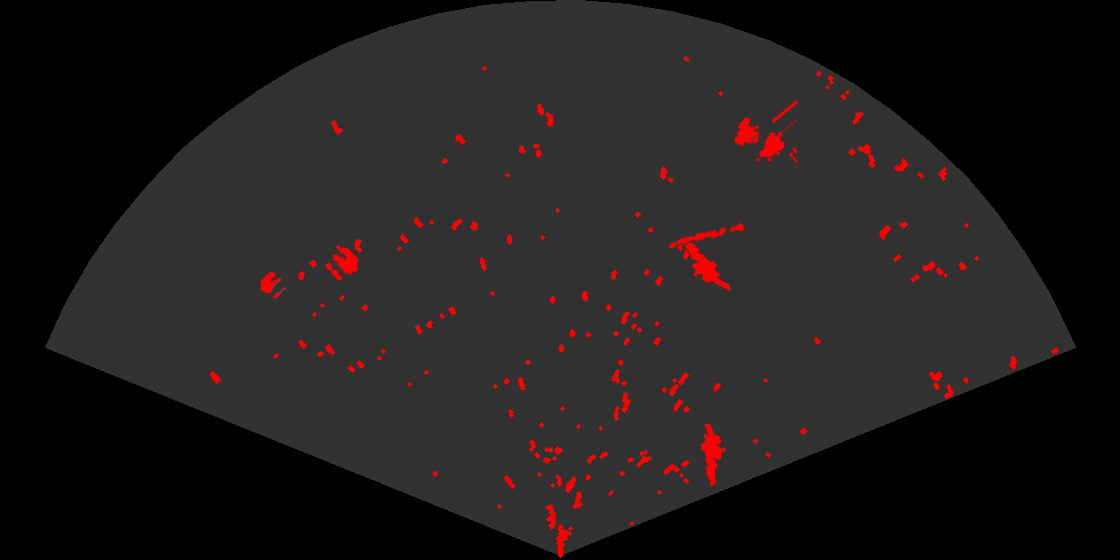ball: (323, 245, 361, 282), (258, 270, 288, 300)
cage: (733, 99, 797, 165)
chain: (666, 221, 746, 250)
frogman: (680, 236, 730, 291), (699, 424, 728, 488)
